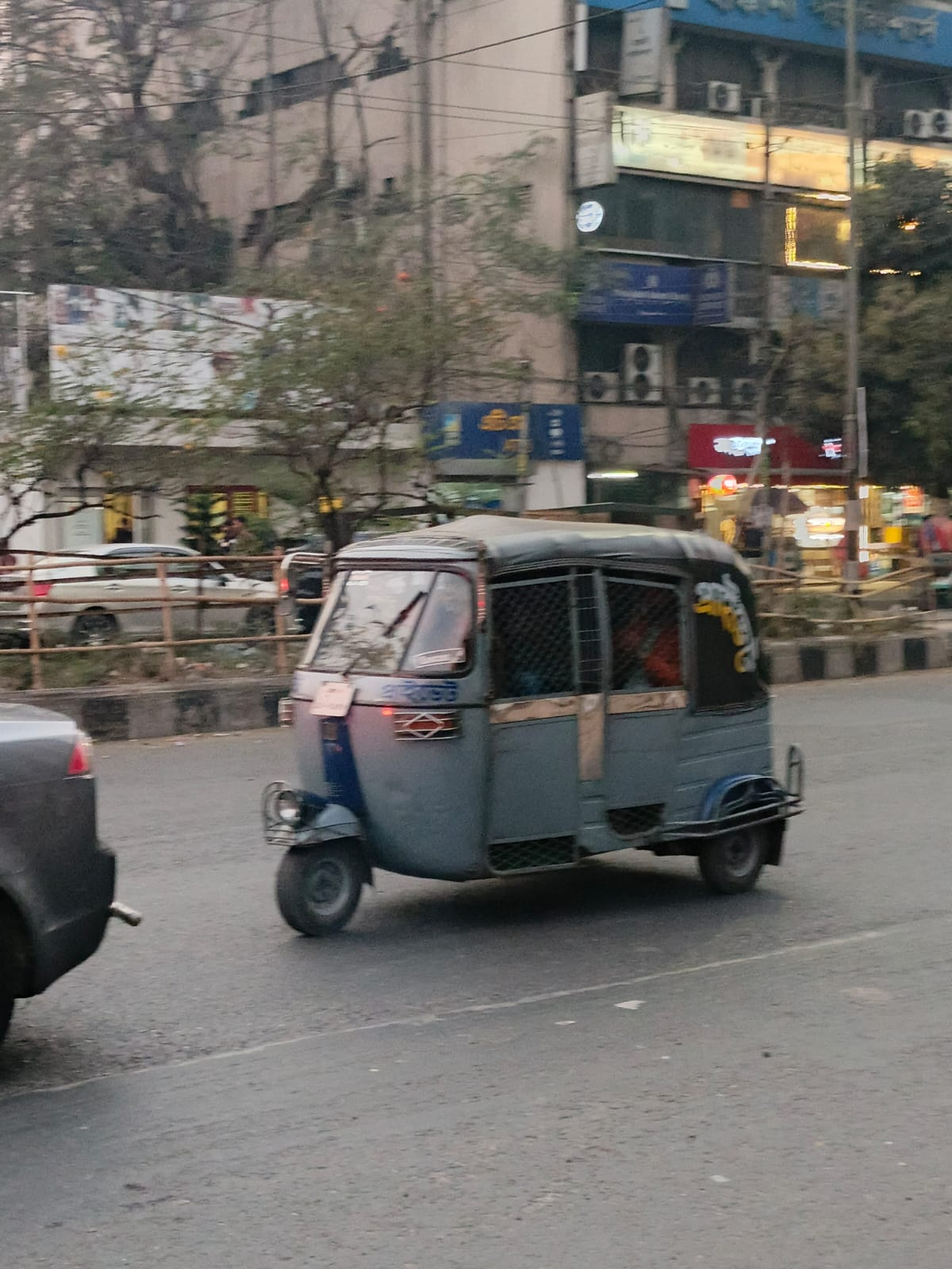cng: (230, 477, 830, 938)
